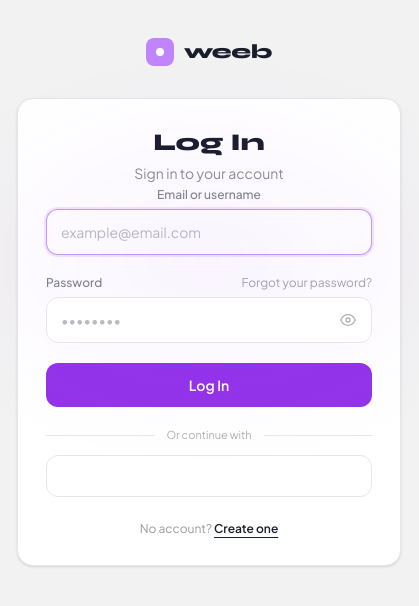
Test case: Login › validates empty form
Click the button "Log In".
click(209, 385)  # box [46,363,372,407]
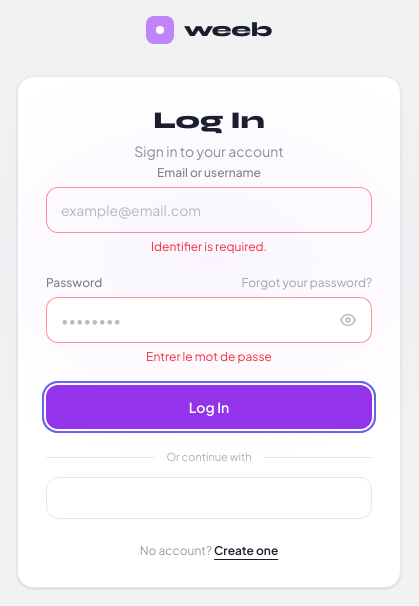
expect the text "Identifier is required." is shown: met, box [151,239,267,254]
expect the text "Entrer le mot de passe" is shown: met, box [146,349,272,364]
